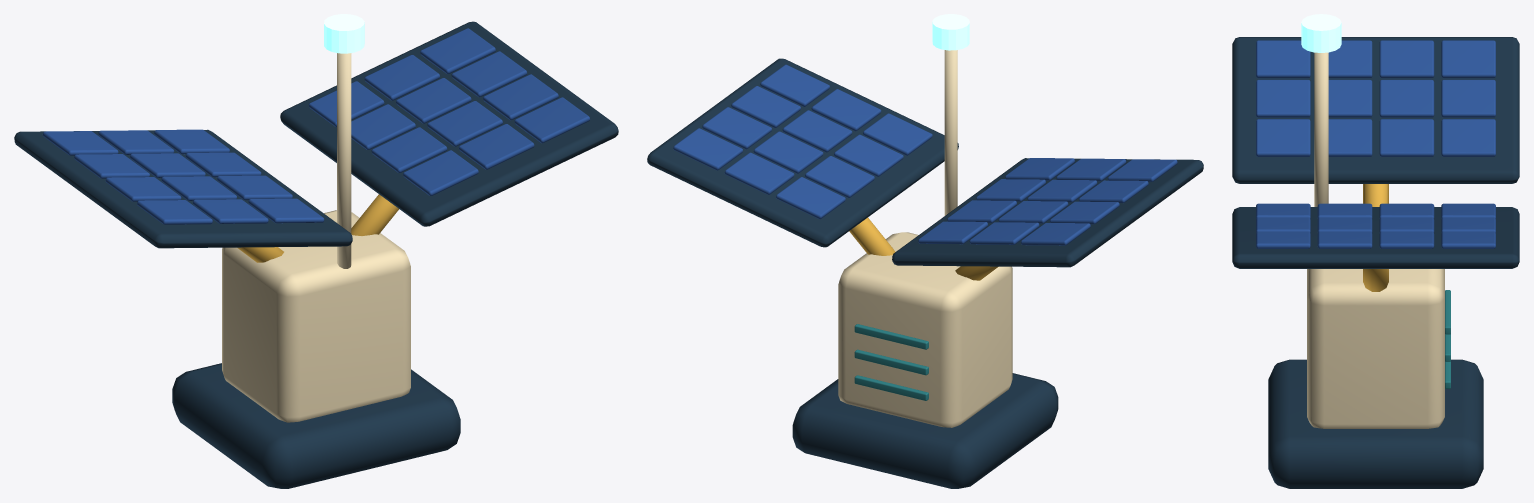
File: solar-outpost.glb
3 views of the same model, side by side, from view 1: azimuth 30°, elevation 25°; view 2: azimuth 150°, elevation 25°; view 3: azimuth 270°, elevation 25° (orthographic). The views are drawn at different scales.
Visible parts, largest first — view 1: Structure; view 2: Structure; view 3: Structure.
Part boxes in pixels (x1=…): Structure: x1=14, y1=14, x2=618, y2=488; Structure: x1=647, y1=14, x2=1203, y2=488; Structure: x1=1232, y1=14, x2=1519, y2=488.
Size of the model in its own units: 3.66 by 3.29 by 2.
